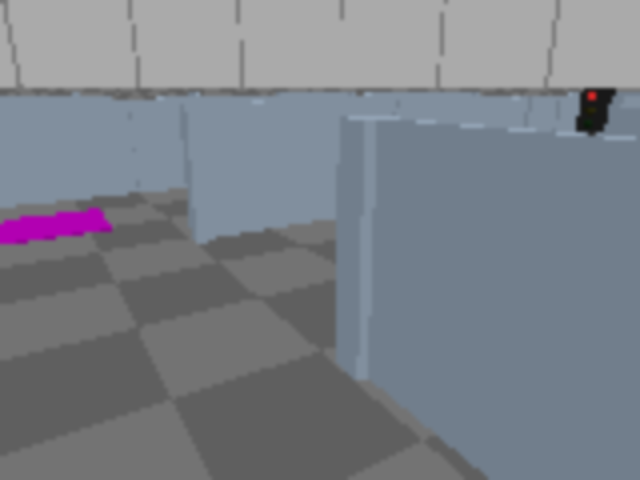goal_zone: (0, 209, 112, 246)
traffic_light: (571, 85, 619, 161)
